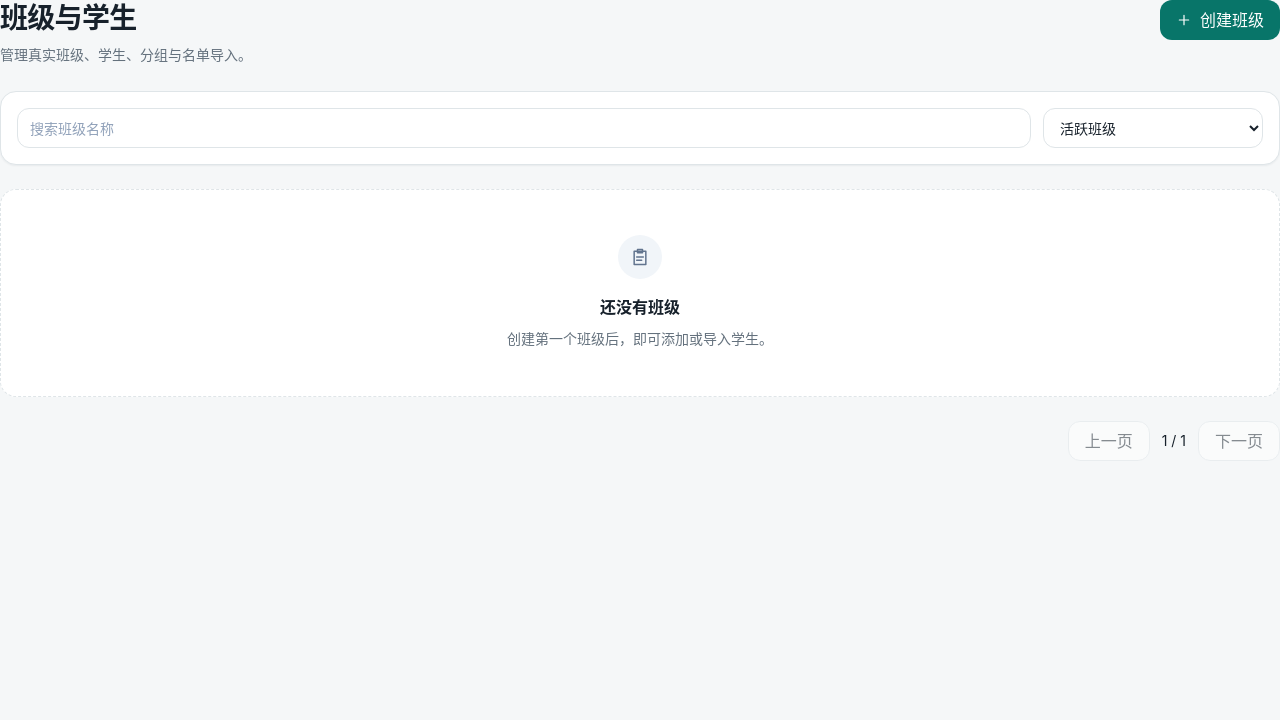
Test case: classes API page › closes the create dialog after a successful class creation
Expected: the heading "还没有班级" is shown, 600,297 -> 680,317
Click the button "创建班级" at (1220, 20), box 1160,0 -> 1279,40
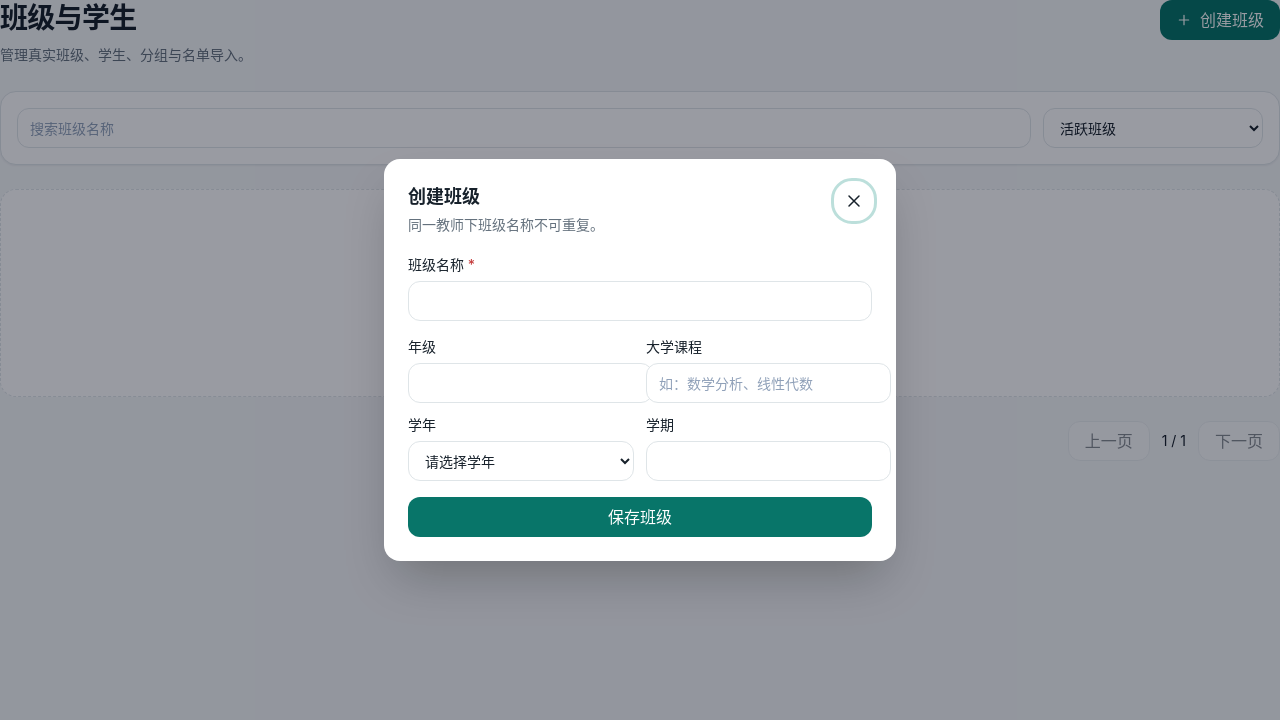
Type "八年级（5）班" into the field labelled "班级名称 *" at (640, 301), box 408,281 -> 872,321
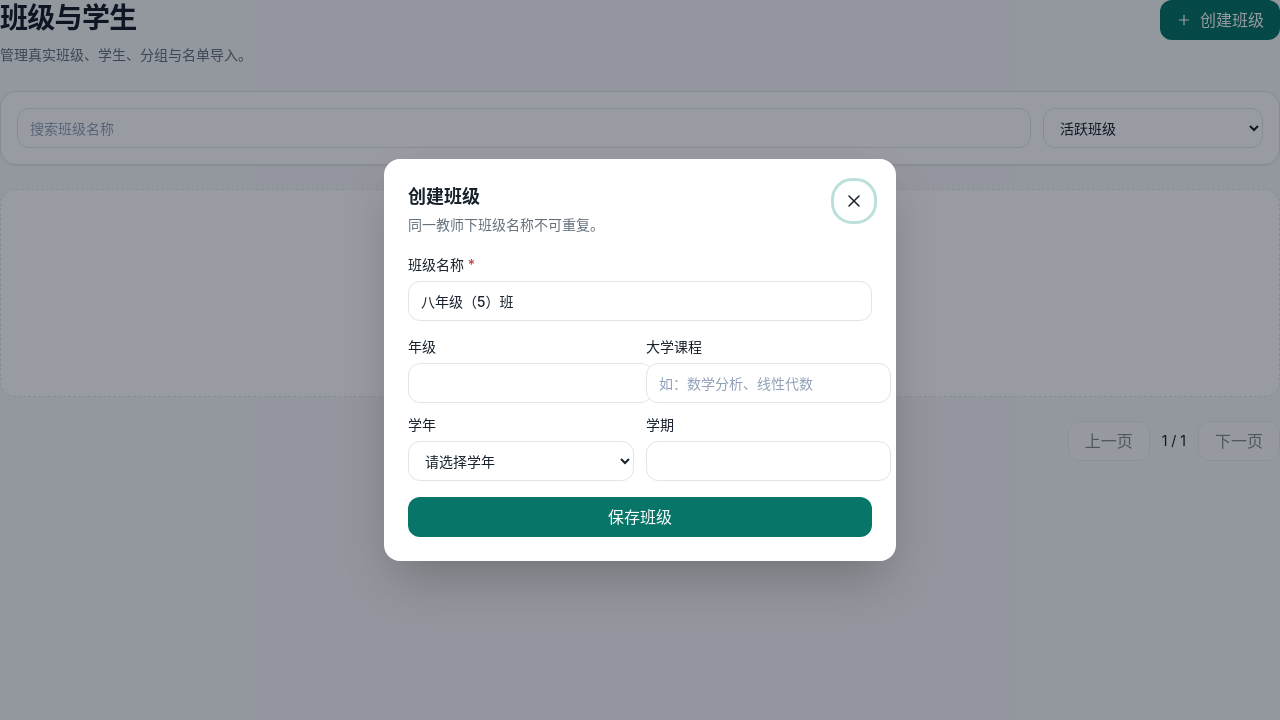
Type "数学分析" into the field labelled "大学课程" at (768, 383), box 646,363 -> 891,403
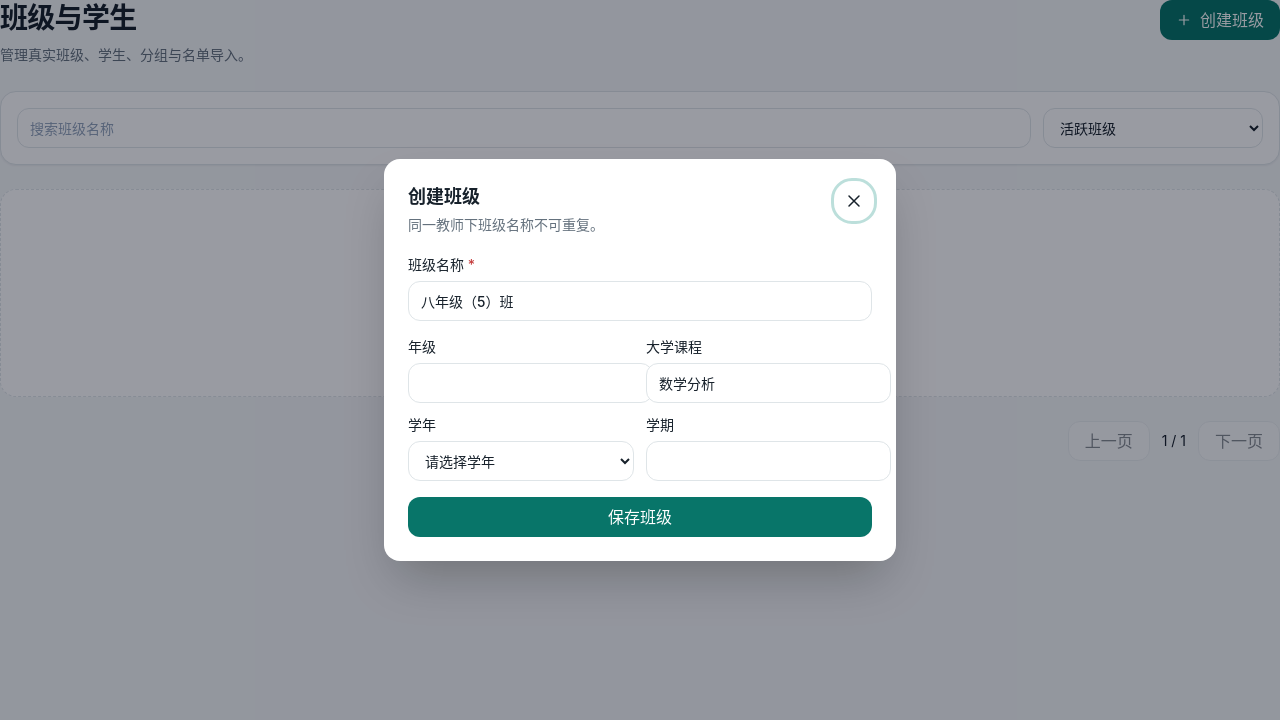
Click the button "保存班级" at (640, 517), box 408,497 -> 872,537
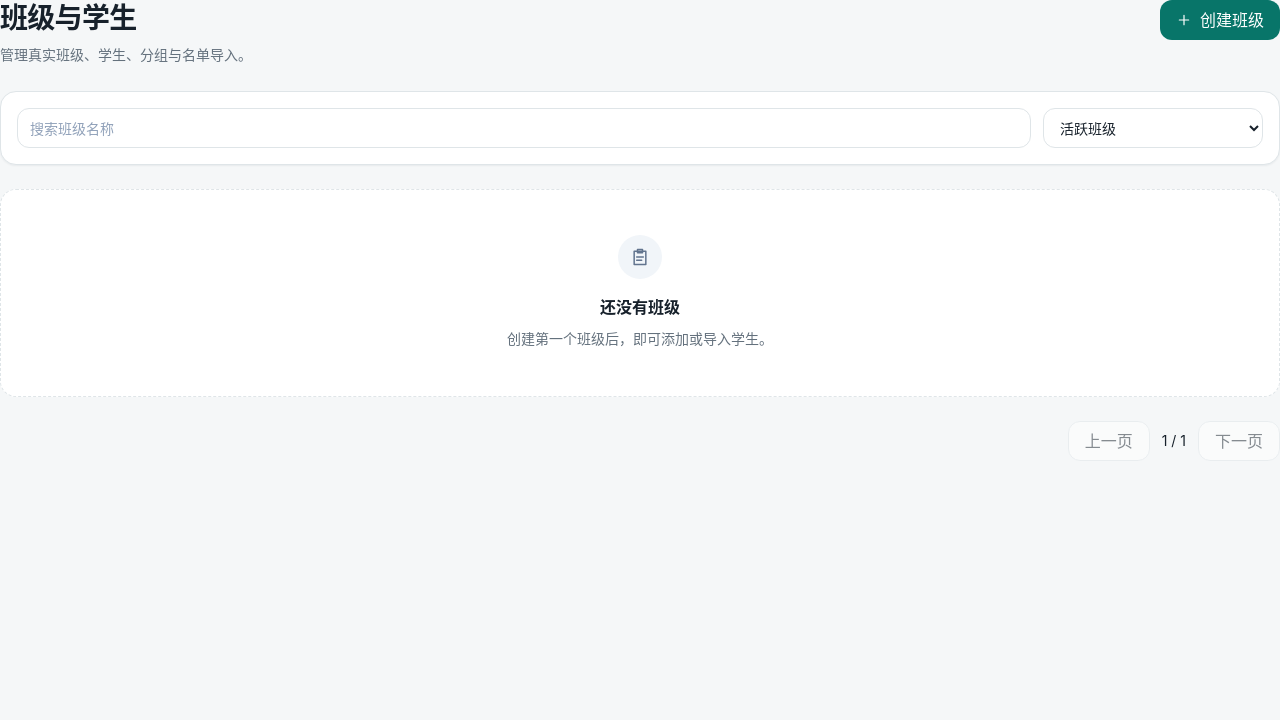
Result: the dialog is gone
